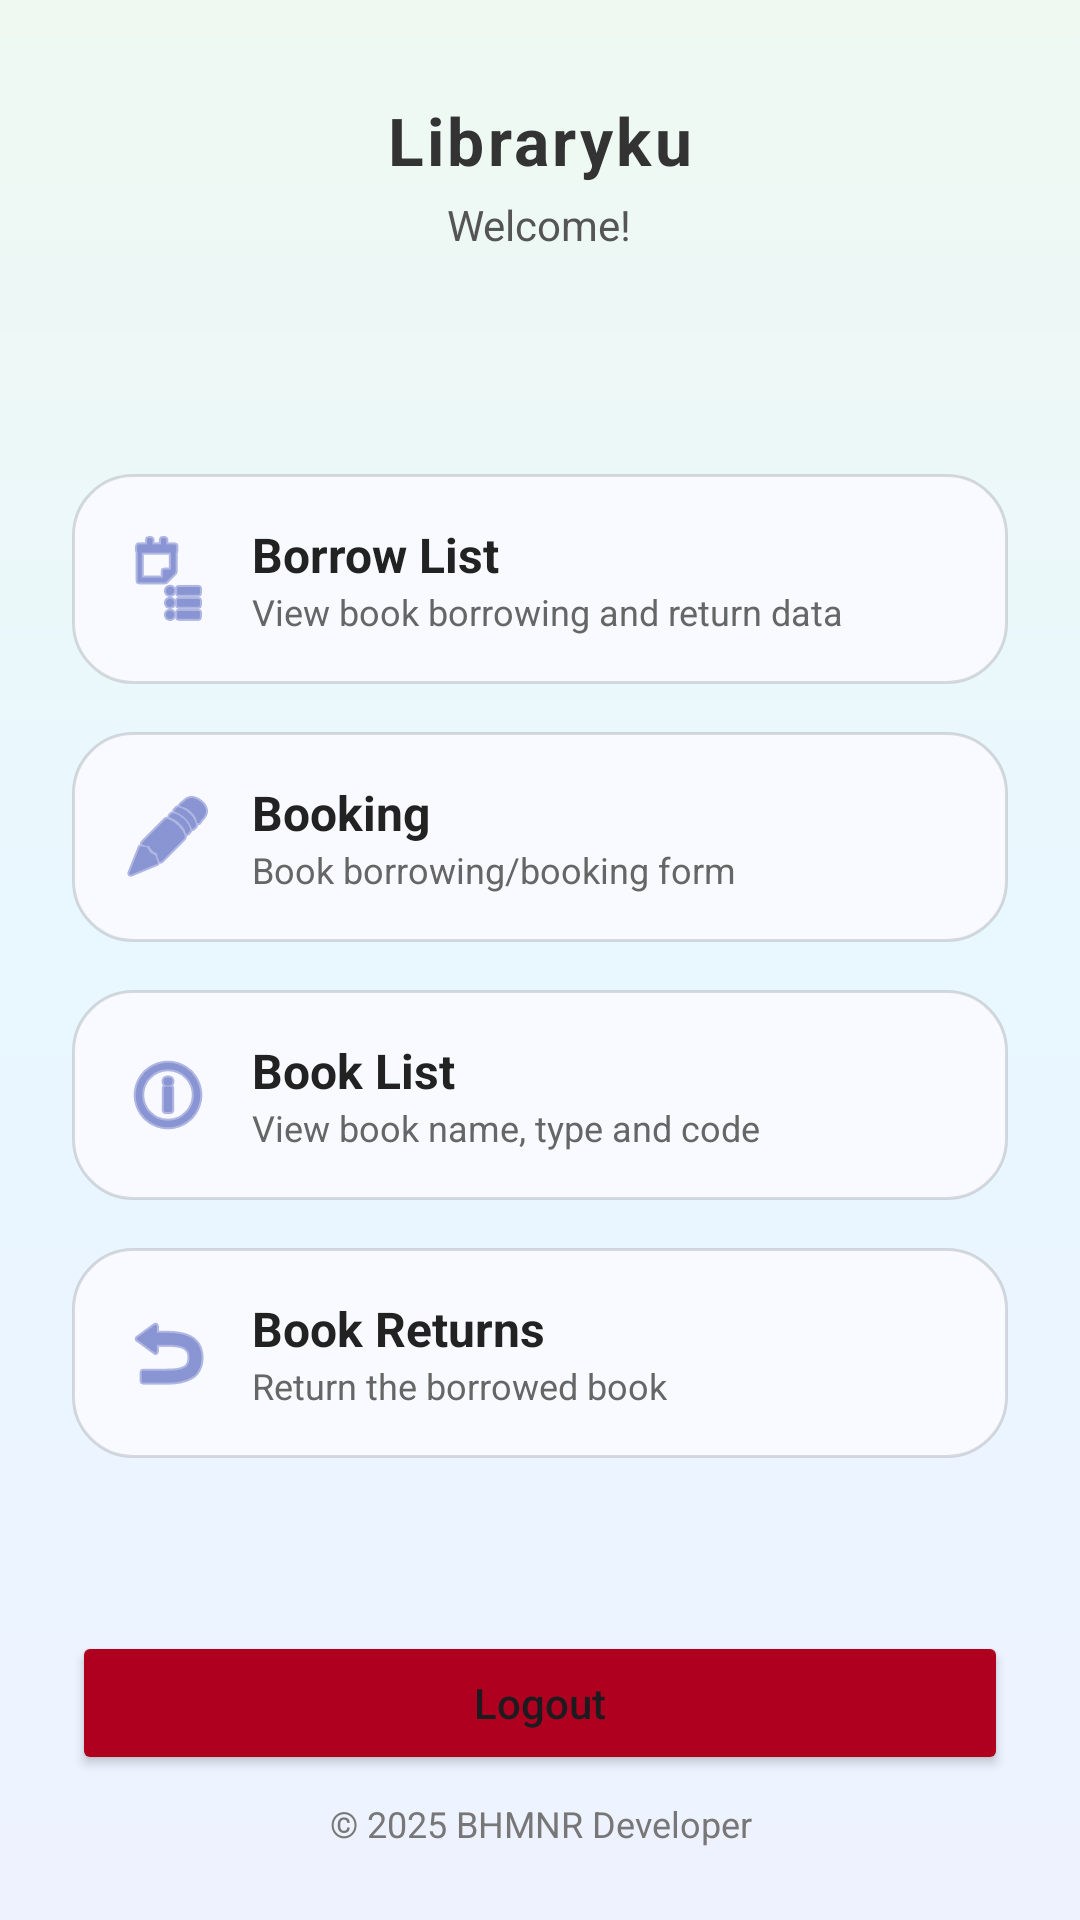

Screen size 1080x1920. Icon name, then its center in pixels as (x=x, y=y):
agenda: (x=168, y=578)
edit: (x=167, y=836)
info details: (x=168, y=1095)
revert: (x=169, y=1353)
